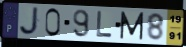0: (44, 7, 62, 37)
8: (145, 12, 166, 42)
9: (72, 9, 91, 39)
J: (18, 6, 41, 37)
L: (95, 10, 114, 40)
M: (119, 11, 145, 41)
